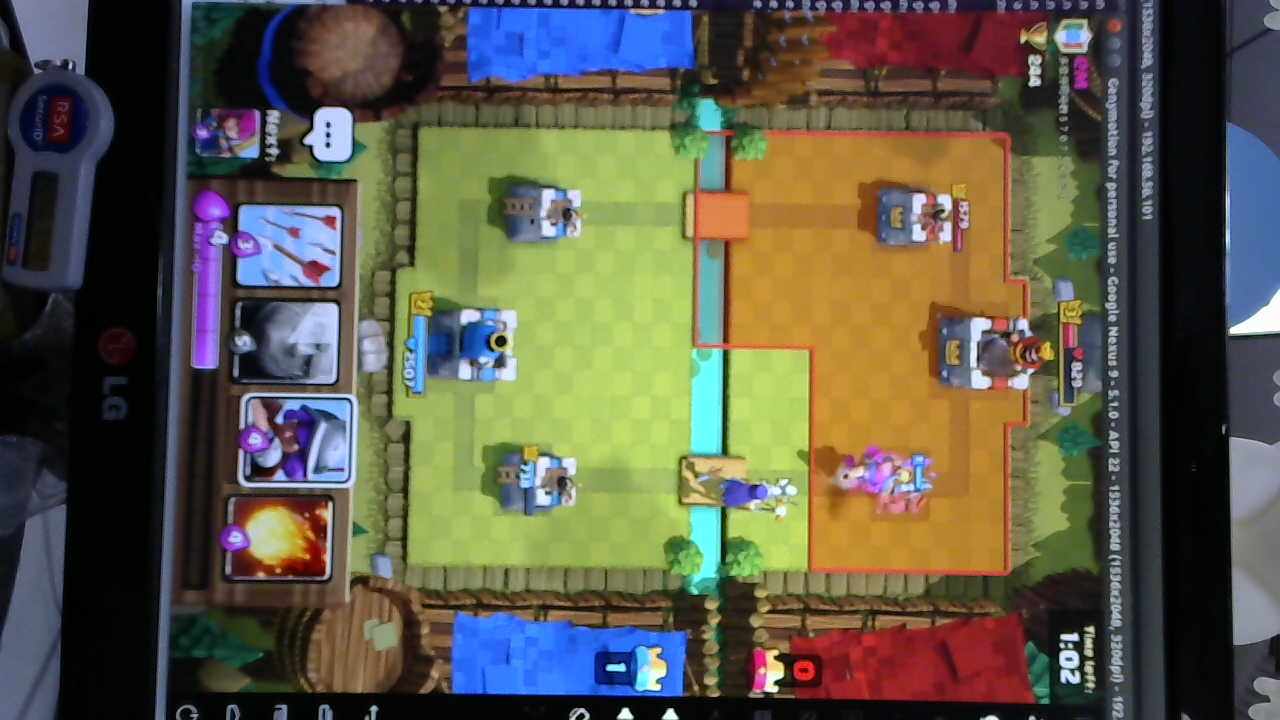arena: (494, 451, 582, 516), (503, 180, 583, 246)
earena: (869, 187, 958, 252)
eking: (930, 309, 1045, 394)
king: (429, 303, 522, 388)
prince: (840, 458, 917, 500)
skeleton: (761, 473, 800, 530)
witch: (713, 479, 769, 509)
